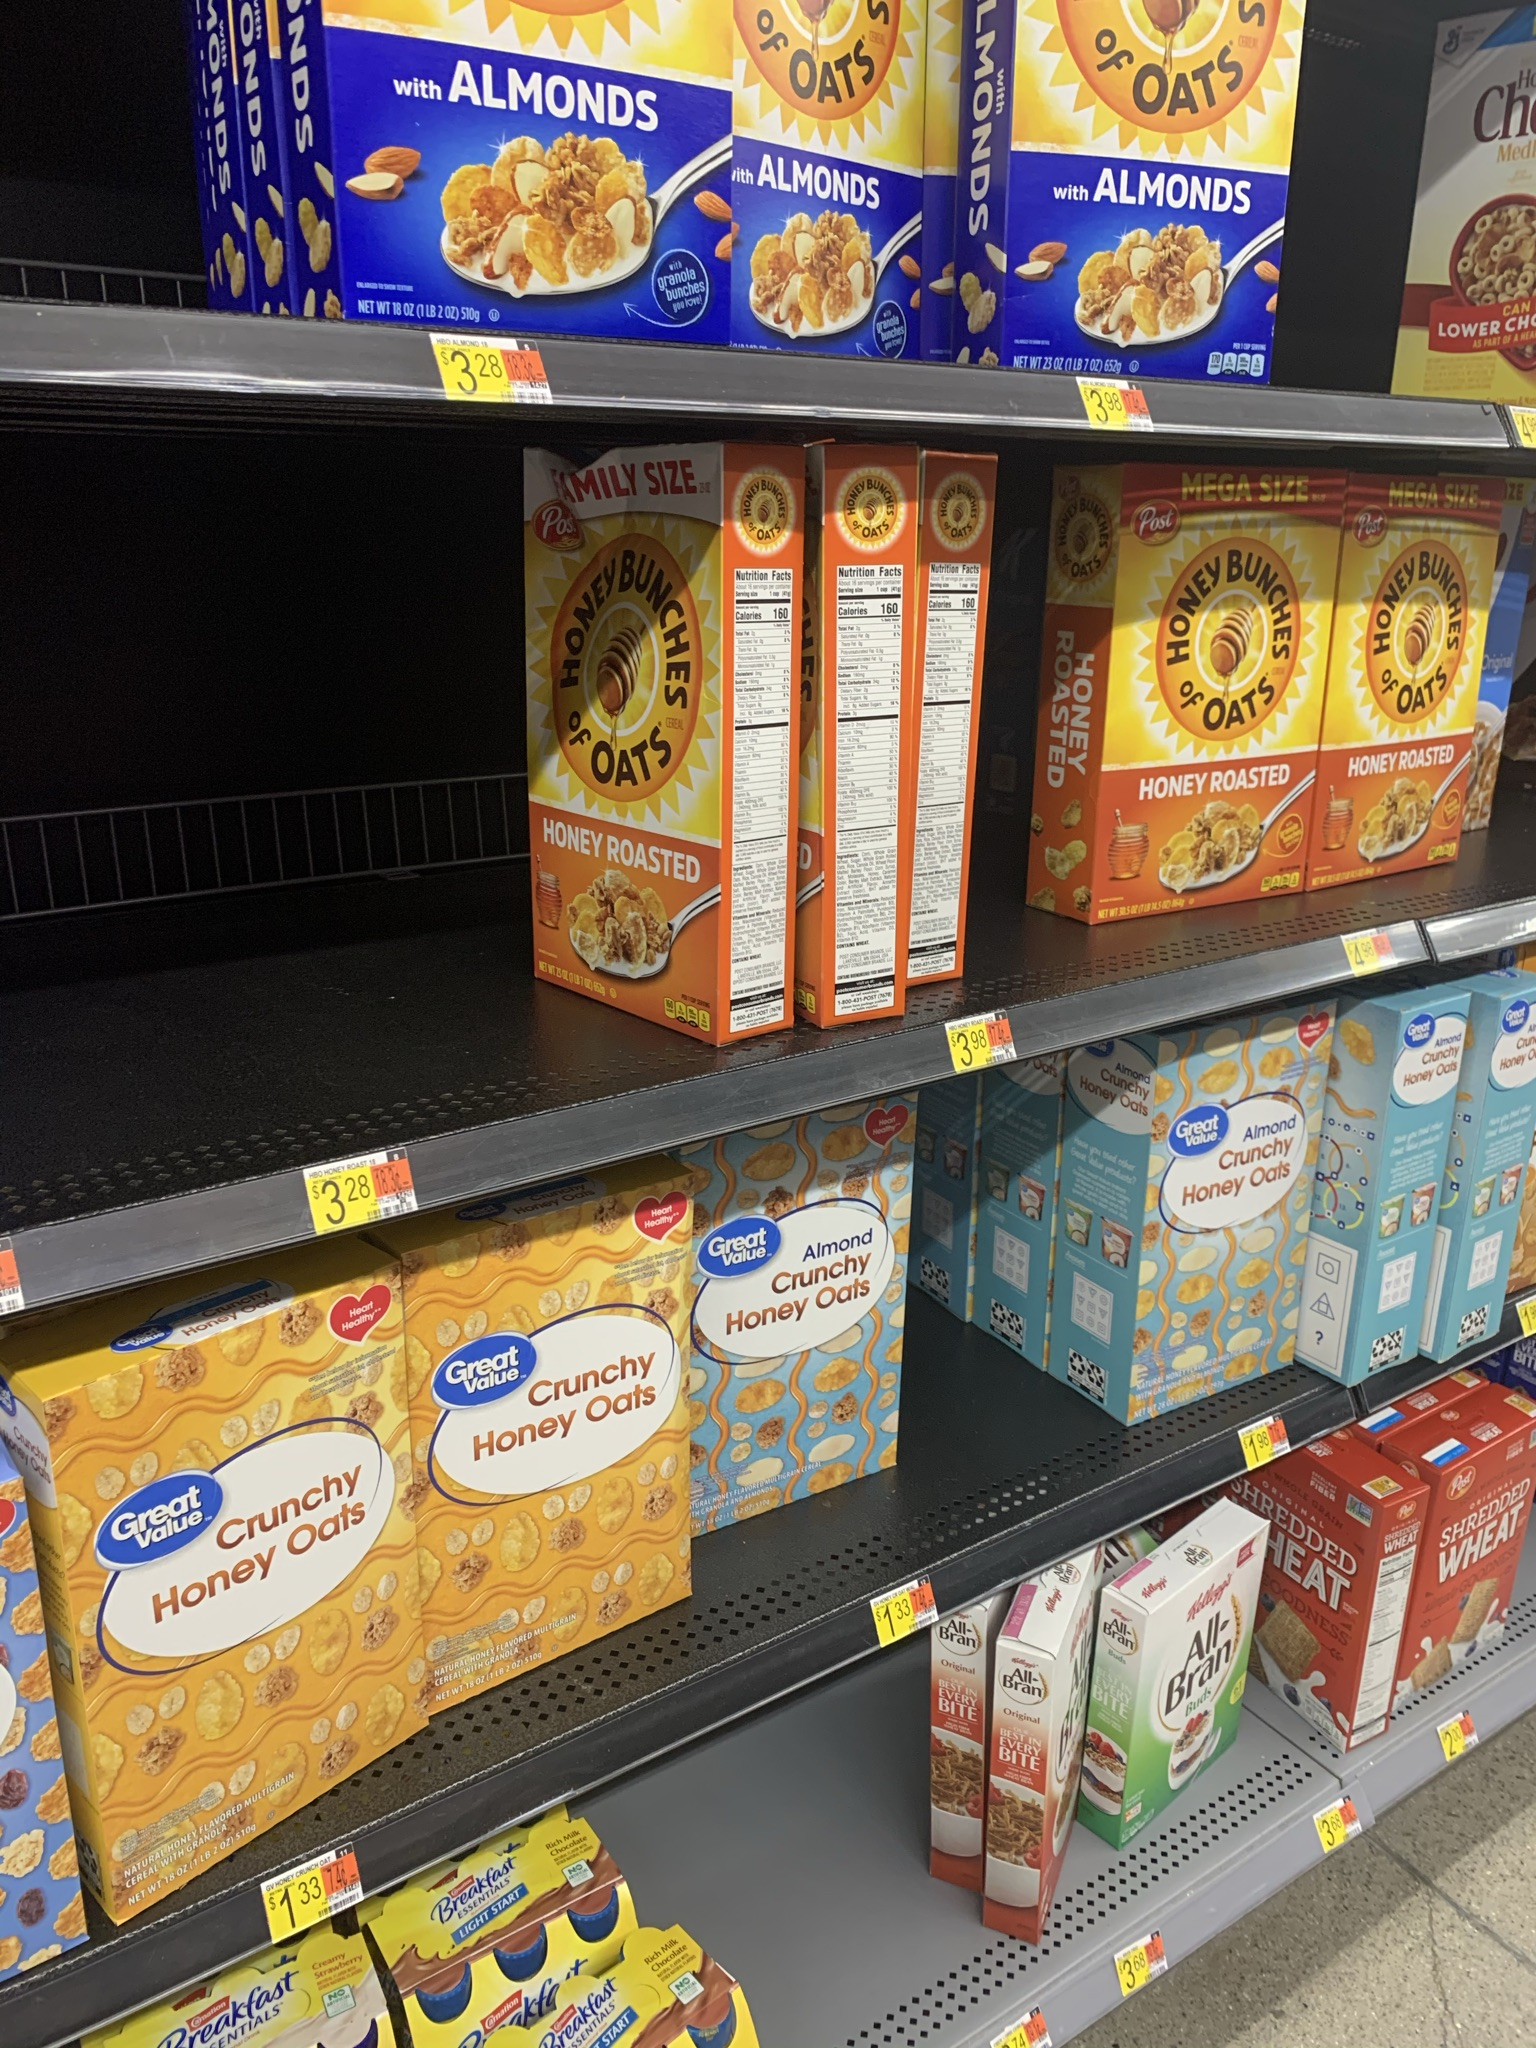box: (307, 2, 724, 339), (73, 1353, 389, 1798), (1013, 2, 1276, 390), (1105, 485, 1302, 893), (445, 1256, 658, 1621), (695, 1147, 889, 1493), (736, 2, 921, 348), (1154, 1053, 1296, 1379), (1354, 490, 1468, 856), (1344, 1008, 1413, 1380), (1291, 1480, 1392, 1717), (1129, 1574, 1241, 1737), (1465, 1008, 1517, 1350), (1436, 1451, 1517, 1658)
